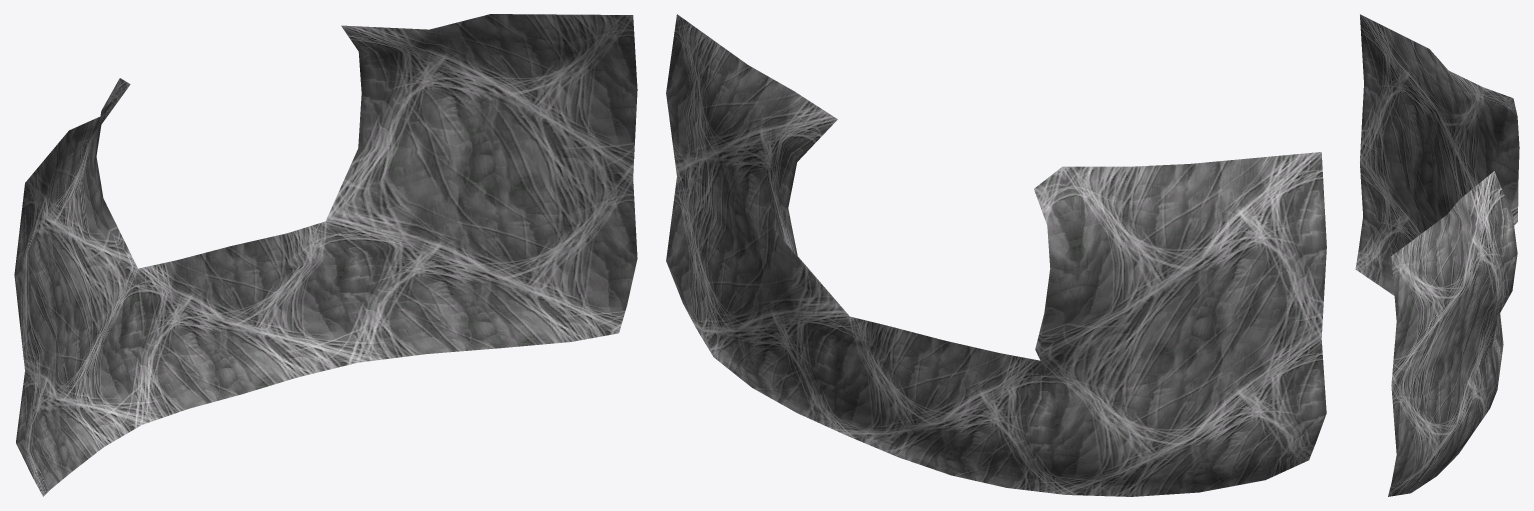
Rendered from SWORDLIGHT20_PS-AREA01_34.fbx.
3 views of the same model, side by side, from view 1: azimuth 30°, elevation 25°; view 2: azimuth 150°, elevation 25°; view 3: azimuth 270°, elevation 25° (orthographic). The views are drawn at different scales.
Visible parts, largest first — view 1: SWORDLIGHT20_PS-AREA01_34; view 2: SWORDLIGHT20_PS-AREA01_34; view 3: SWORDLIGHT20_PS-AREA01_34.
Boxes of the visible parts, x1,y1,x2,y2 form: SWORDLIGHT20_PS-AREA01_34: [14, 14, 637, 496]; SWORDLIGHT20_PS-AREA01_34: [666, 14, 1326, 496]; SWORDLIGHT20_PS-AREA01_34: [1355, 14, 1519, 496].
Bounding box in the file's own units: 176483 × 89476 × 49305.
1 material, 1 textured.
